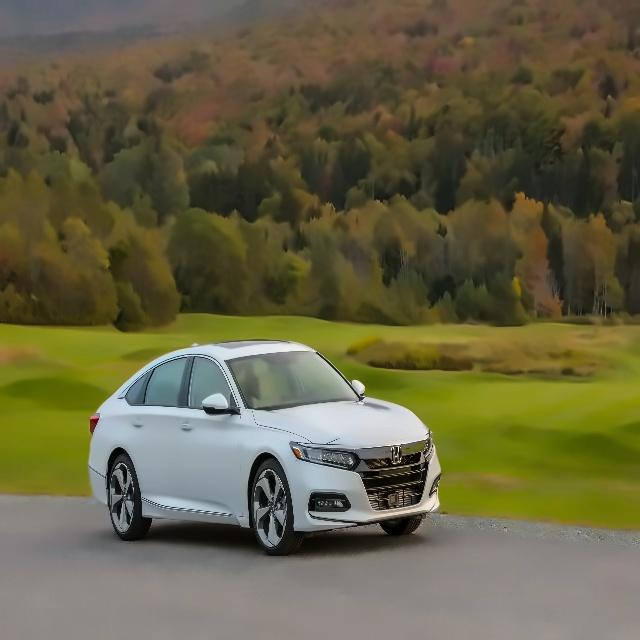Car hood: (243, 396, 434, 449)
Driver-s door - -F-R-: (166, 343, 254, 534)
Fender - -F-R-: (236, 411, 304, 528)
Fender - -R-R-: (87, 372, 140, 478)
Front bumper: (281, 453, 443, 536)
Headlight - -R-: (287, 442, 363, 473)
Passenger-s door - -R-R-: (120, 336, 191, 533)
Rear bumper: (82, 461, 113, 515)
Side bumper - -R-: (135, 491, 258, 537)
Side mirror - -R-: (203, 391, 237, 419)
